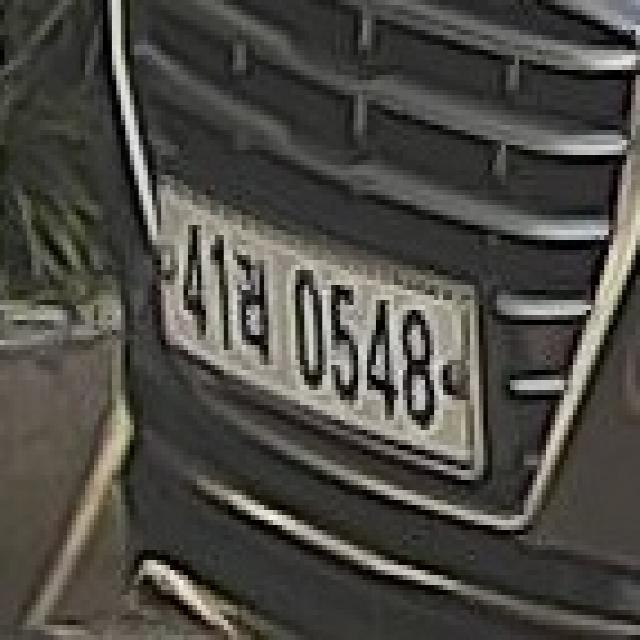0: (286, 265, 327, 390)
1: (206, 230, 233, 355)
4: (362, 295, 403, 420), (174, 225, 210, 345)
5: (322, 285, 363, 400)
8: (394, 300, 438, 435)
leo: (233, 250, 273, 360)
license_plate: (152, 180, 484, 470)
